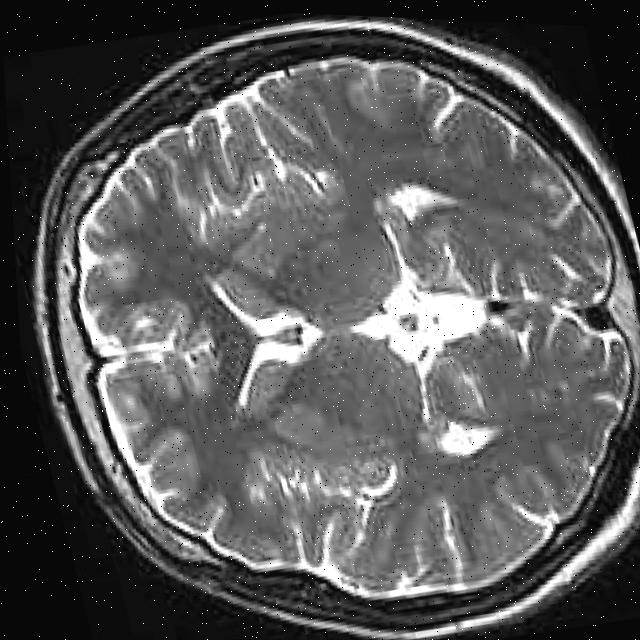NoTumor: (17, 1, 640, 640)
